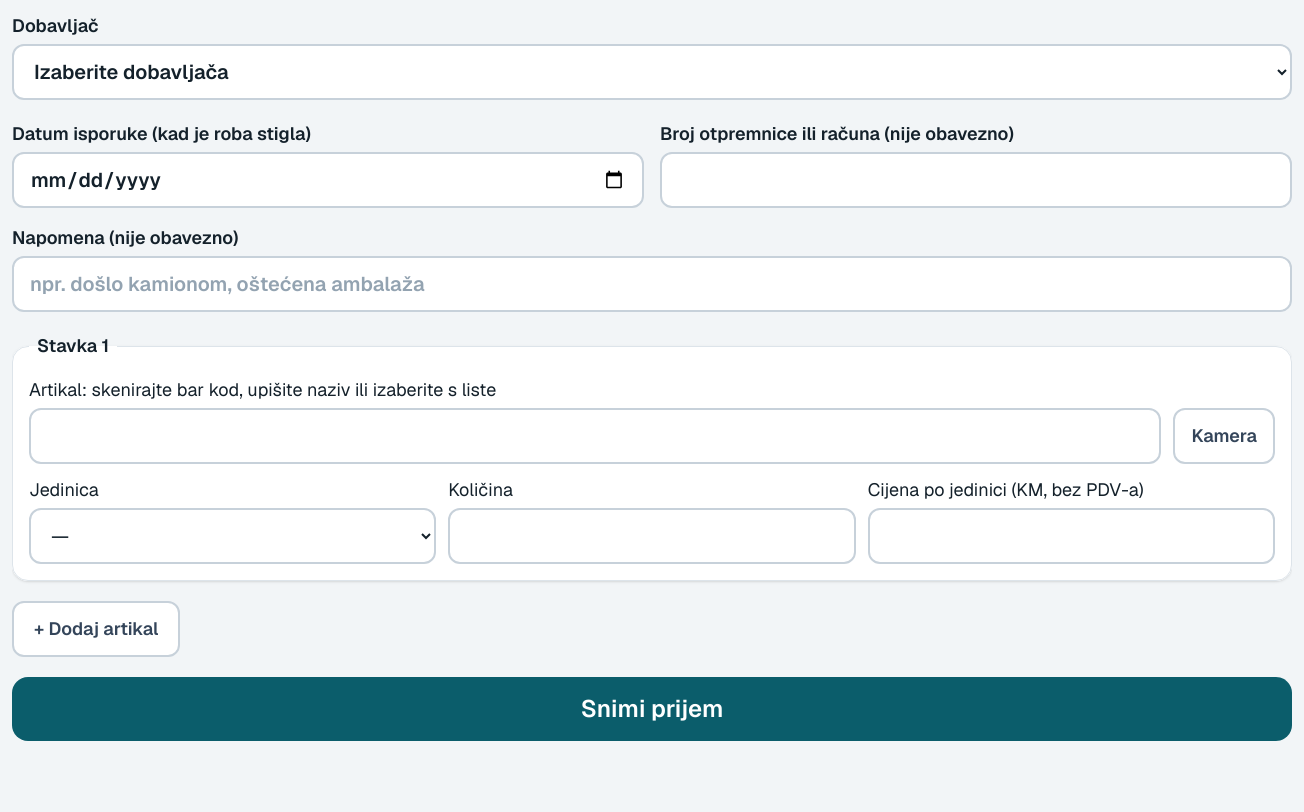
Test case: prijem: unos artikla skenerom › nepoznat naziv javlja da artikal nije pronađen
The width and height of the screenshot is (1304, 812).
Step 1. Click the field labelled "Artikal:" → (595, 436), box [29, 408, 1161, 464]
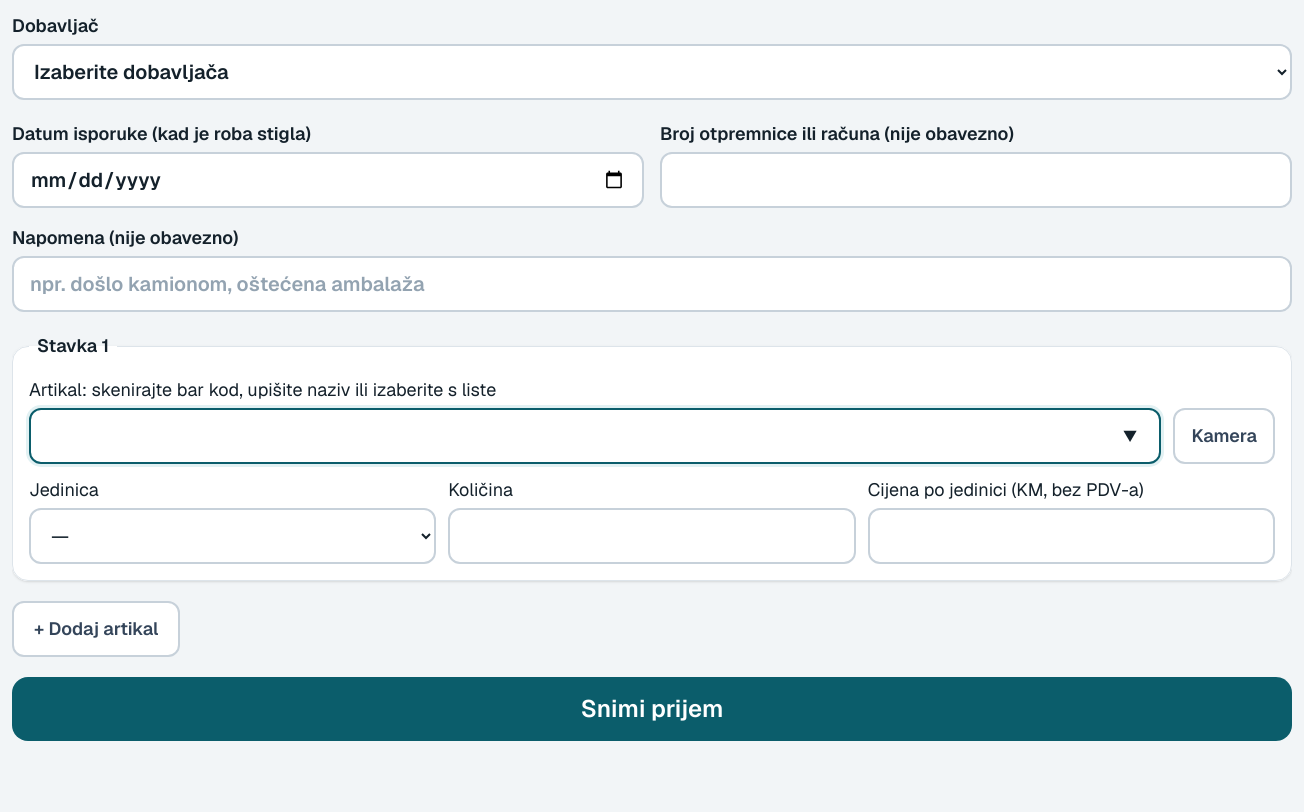
Step 2. Type keys "Banana{Enter}"
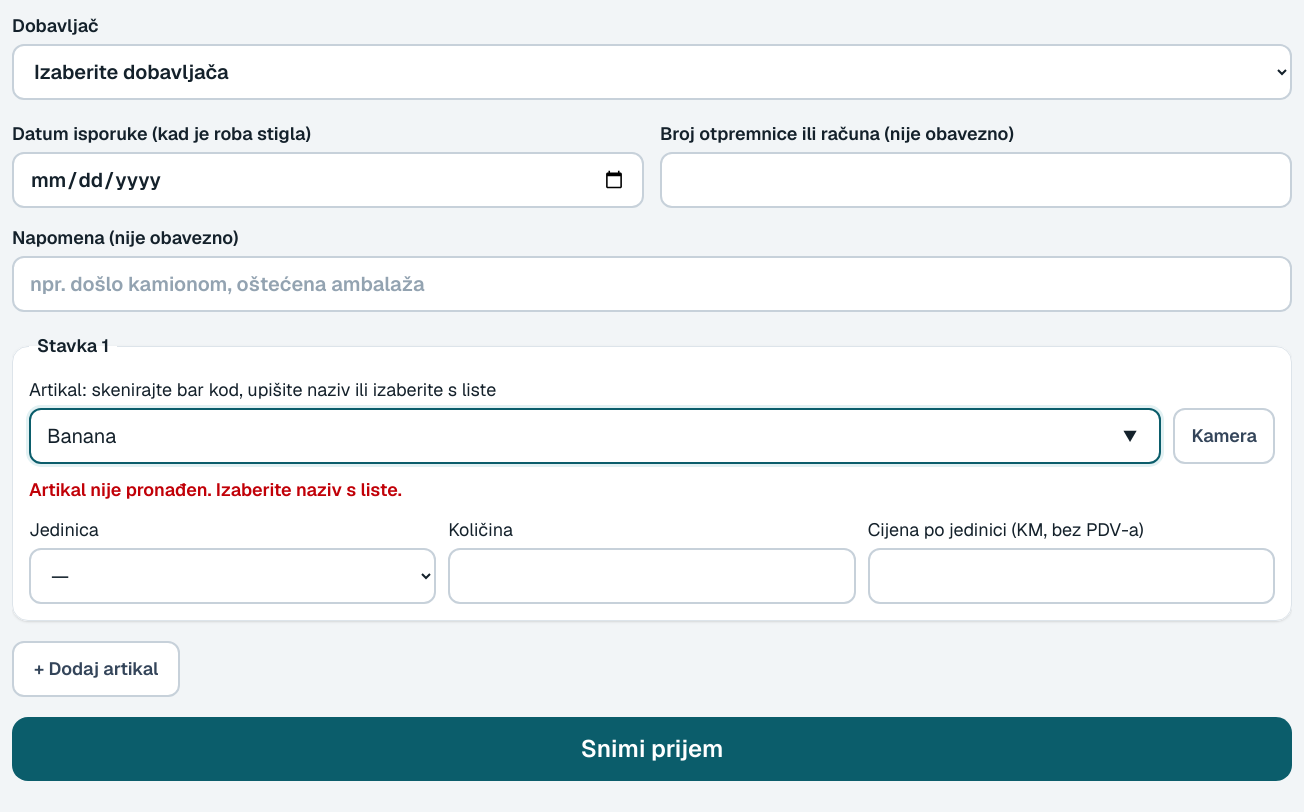
expect the message shows "Artikal nije pronađen": met, box [29, 478, 402, 501]
